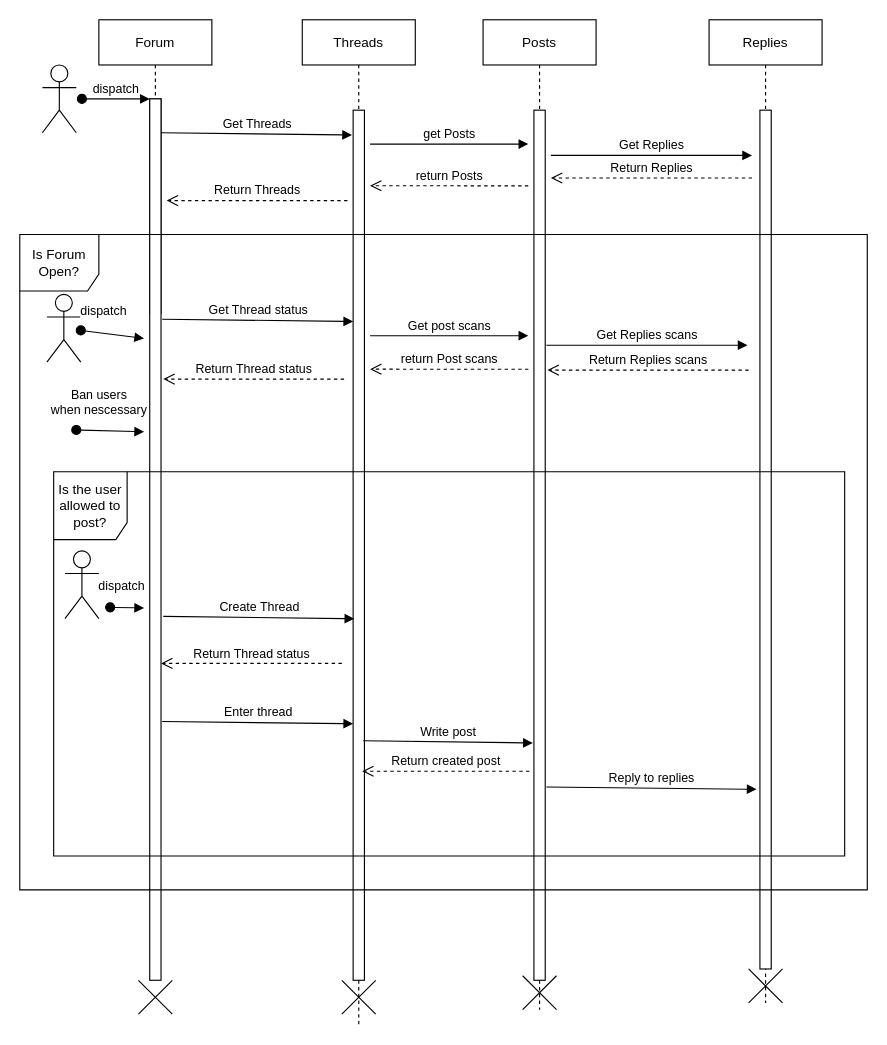
Some shapes in this 887 by 1045 pixel diagram are drawn without their labels. Here are the shapes that lost their labels. From the top down, the centre of each, then its label:
At point (58, 98): "Administrator".
At point (63, 327): "Moderator".
At point (81, 584): "Regular Users (includes Mods & Admins)".
